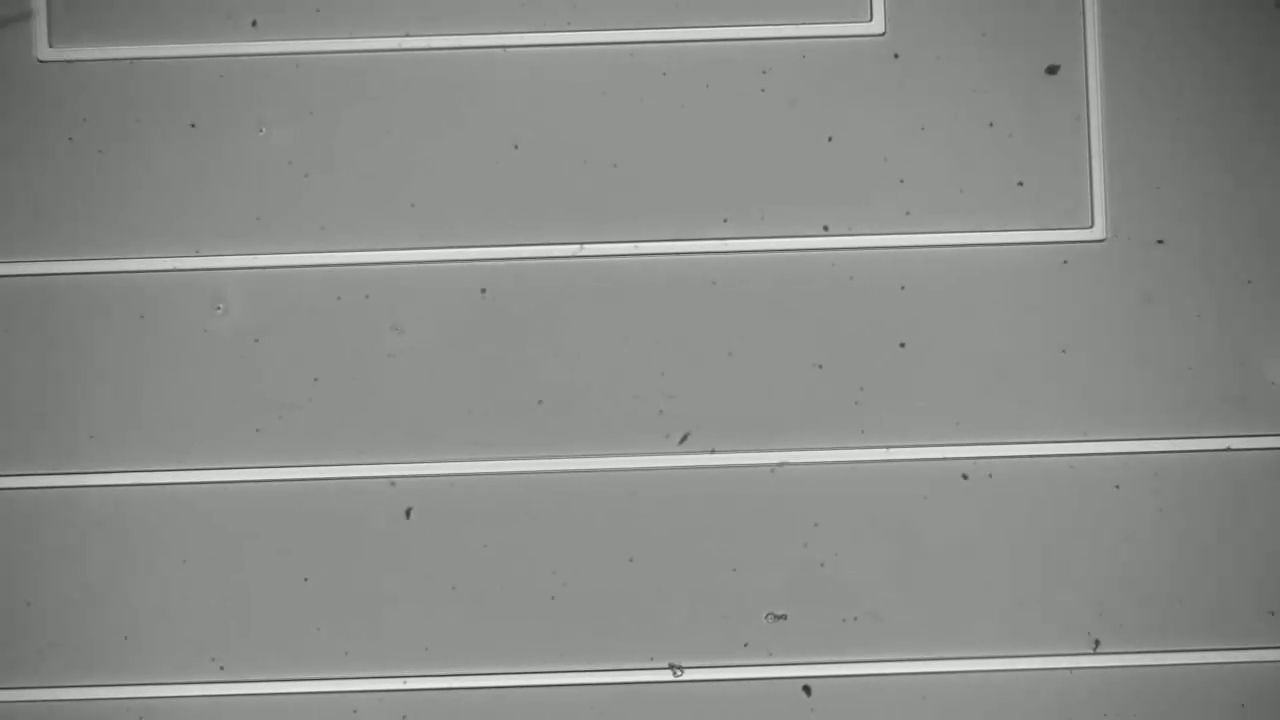stains_enbedded: (661, 655, 692, 689)
